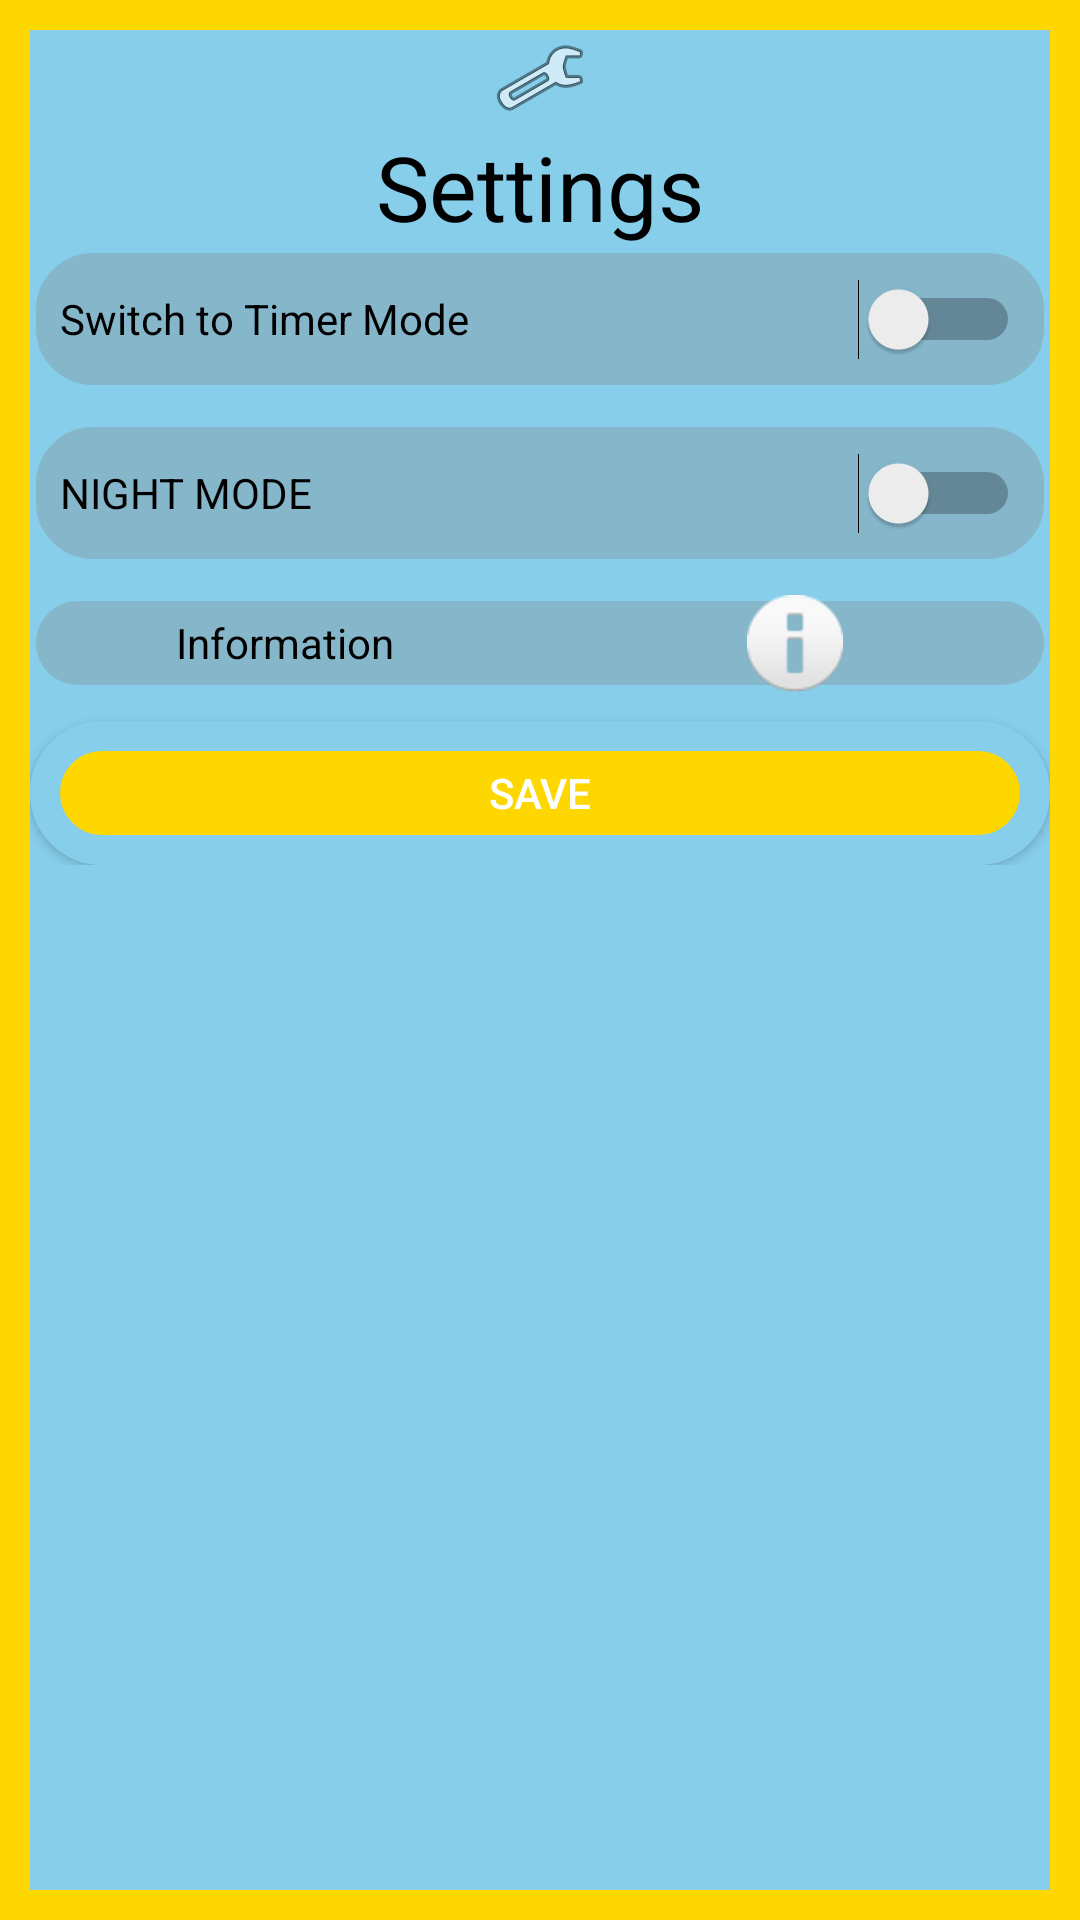

Screen size 1080×1920. Icon name, then its center in pixels as (x=x, y=y):
manage: (x=540, y=78)
